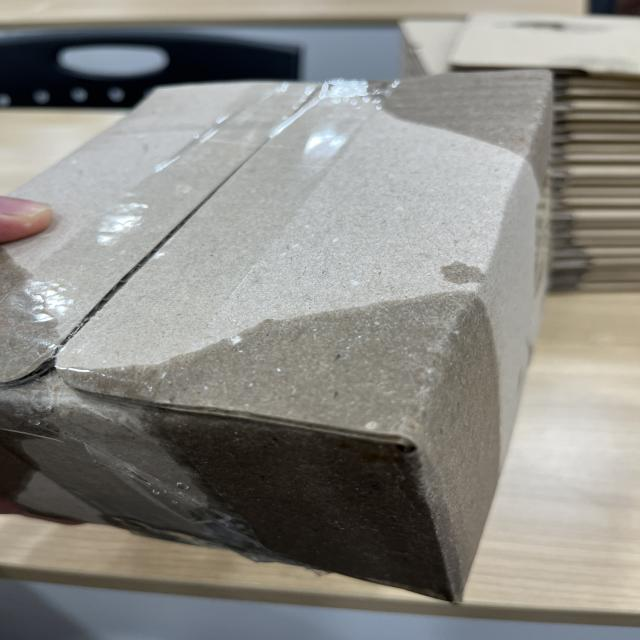wet: (74, 308, 561, 575), (354, 60, 618, 227)
